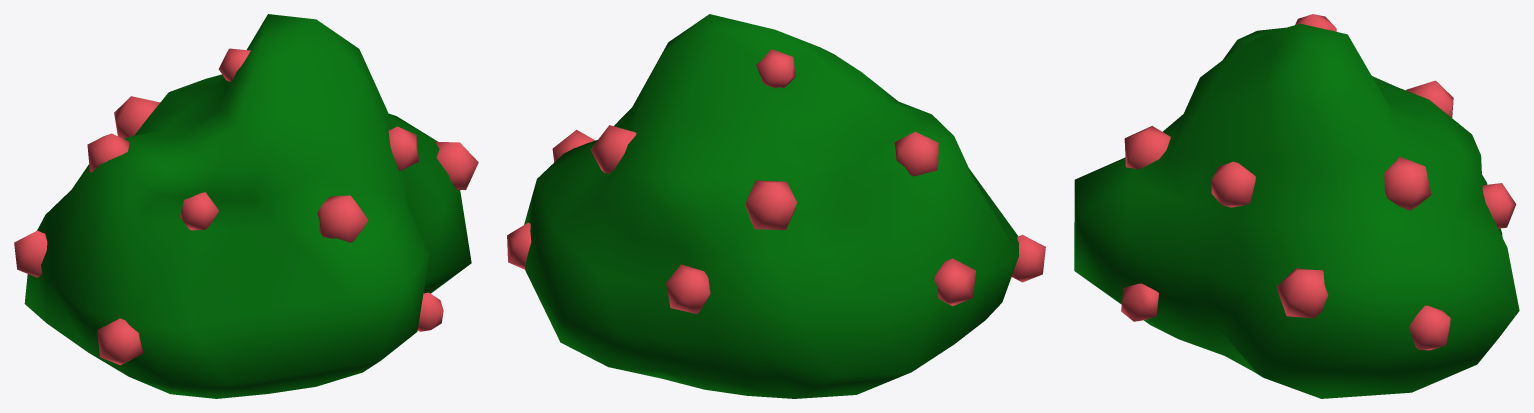
The model's file is bush.gltf.
3 views of the same model, side by side, from view 1: azimuth 30°, elevation 25°; view 2: azimuth 150°, elevation 25°; view 3: azimuth 270°, elevation 25° (orthographic).
Parts seen in each view (by area): view 1: Leaves 3, Berry; view 2: Leaves 3, Berry; view 3: Leaves 3, Berry.
Part boxes in pixels (x1,y1,x2,y2): Leaves 3: (24, 14, 471, 398); Berry: (14, 48, 478, 365); Leaves 3: (524, 14, 1019, 398); Berry: (507, 49, 1045, 313); Leaves 3: (1074, 23, 1519, 398); Berry: (1121, 14, 1516, 350).
Bounding box in the file's own units: 2.25 × 1.53 × 1.97.
